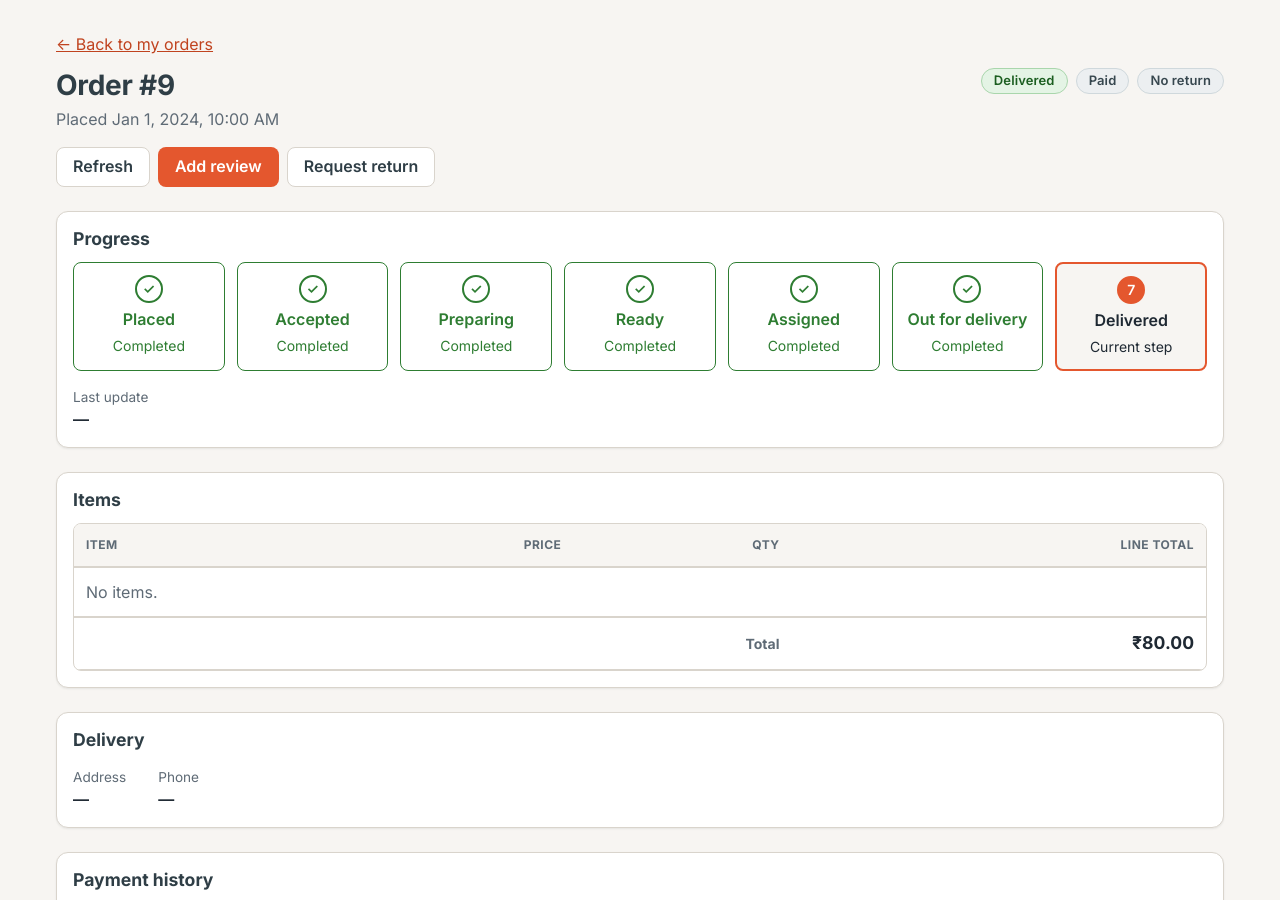
Test: OrderDetail › validates the return reason before submitting
Click the button "Request return".
click(361, 167)  # box [287, 147, 435, 187]
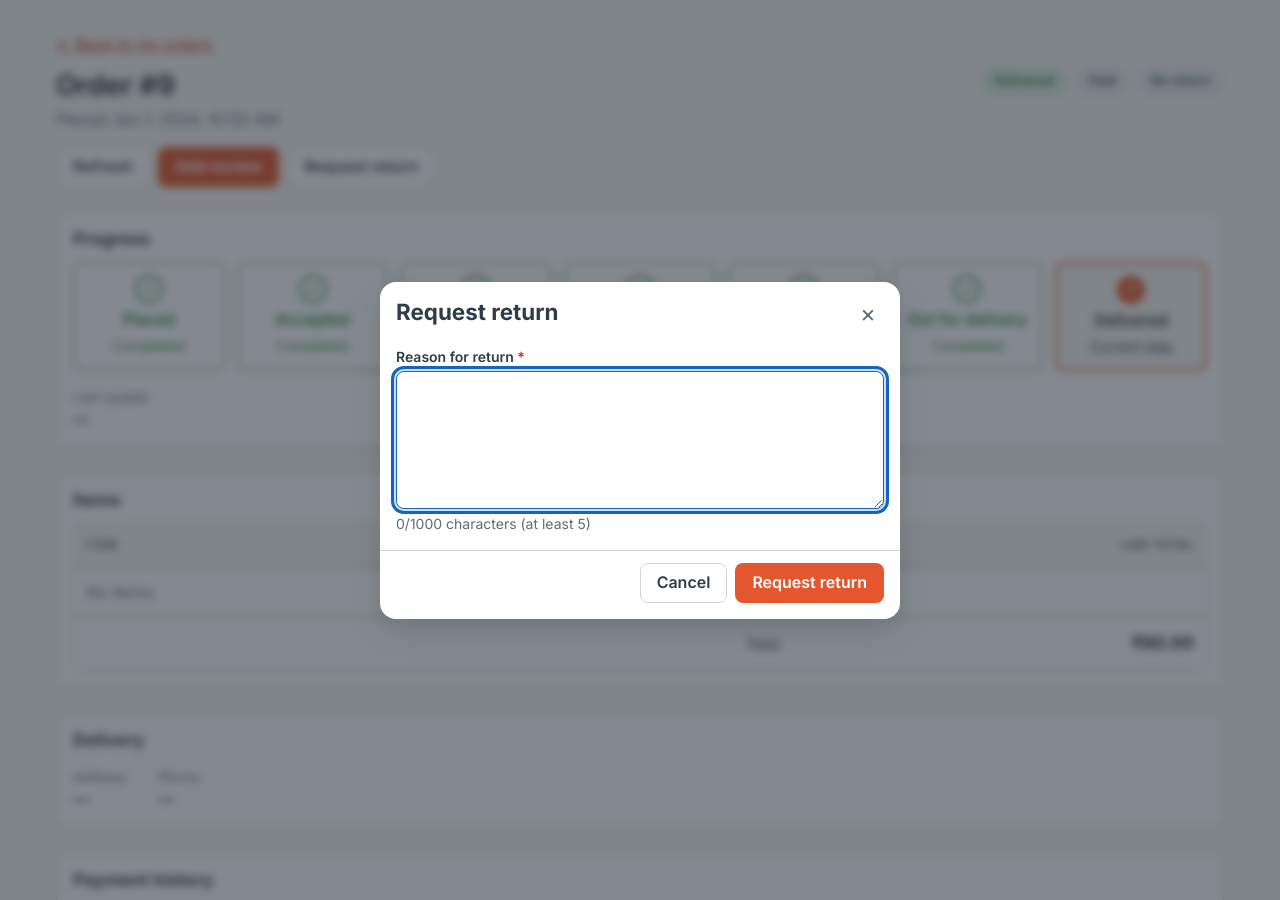
Click the button "Request return".
click(810, 582)  # box [735, 562, 884, 602]
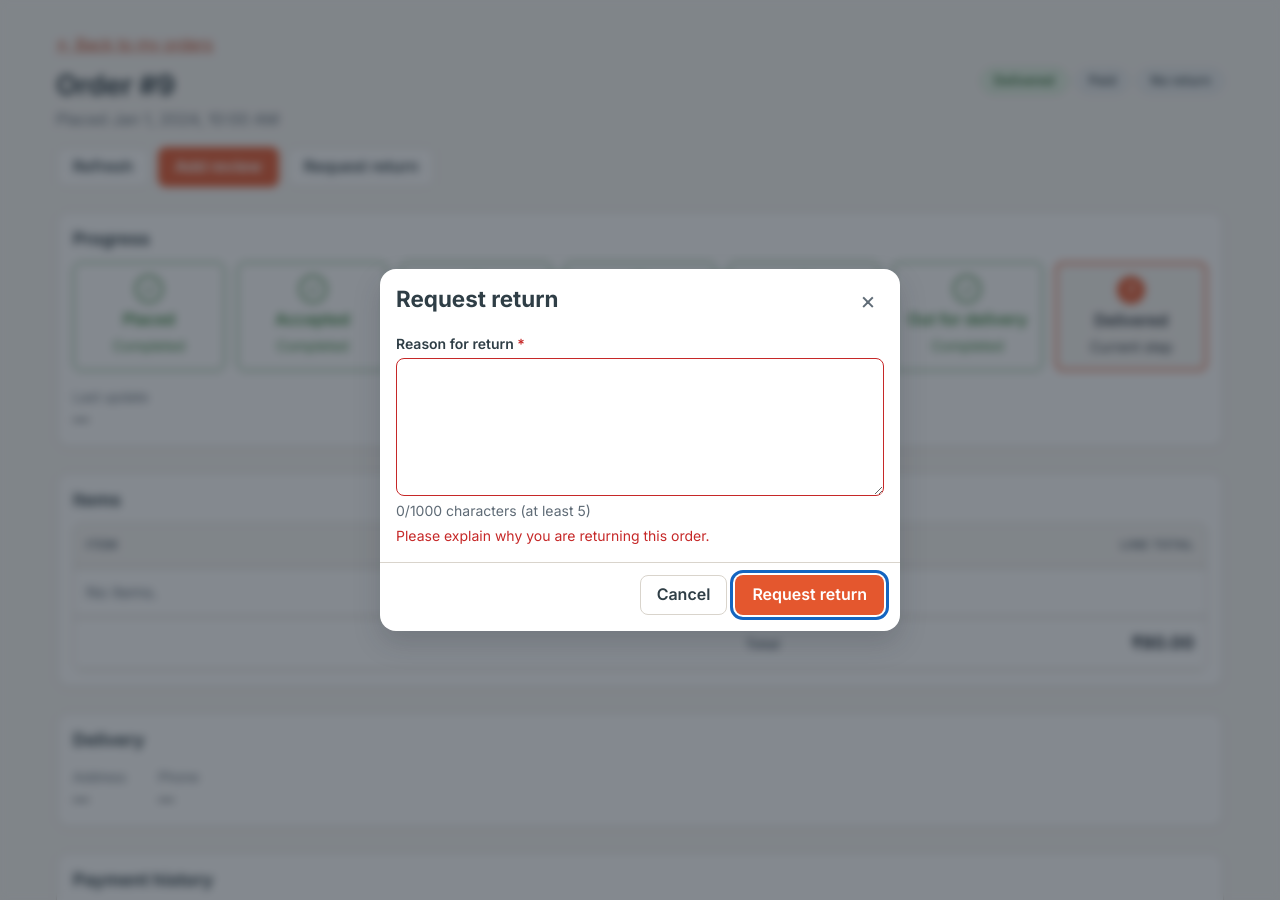
Expected: the text "Please explain why you are returning this order." is shown, [396, 527, 710, 544]
Type "abc" into the text box labelled "Reason for return *".
click(640, 427); type("abc")  # box [396, 358, 884, 496]
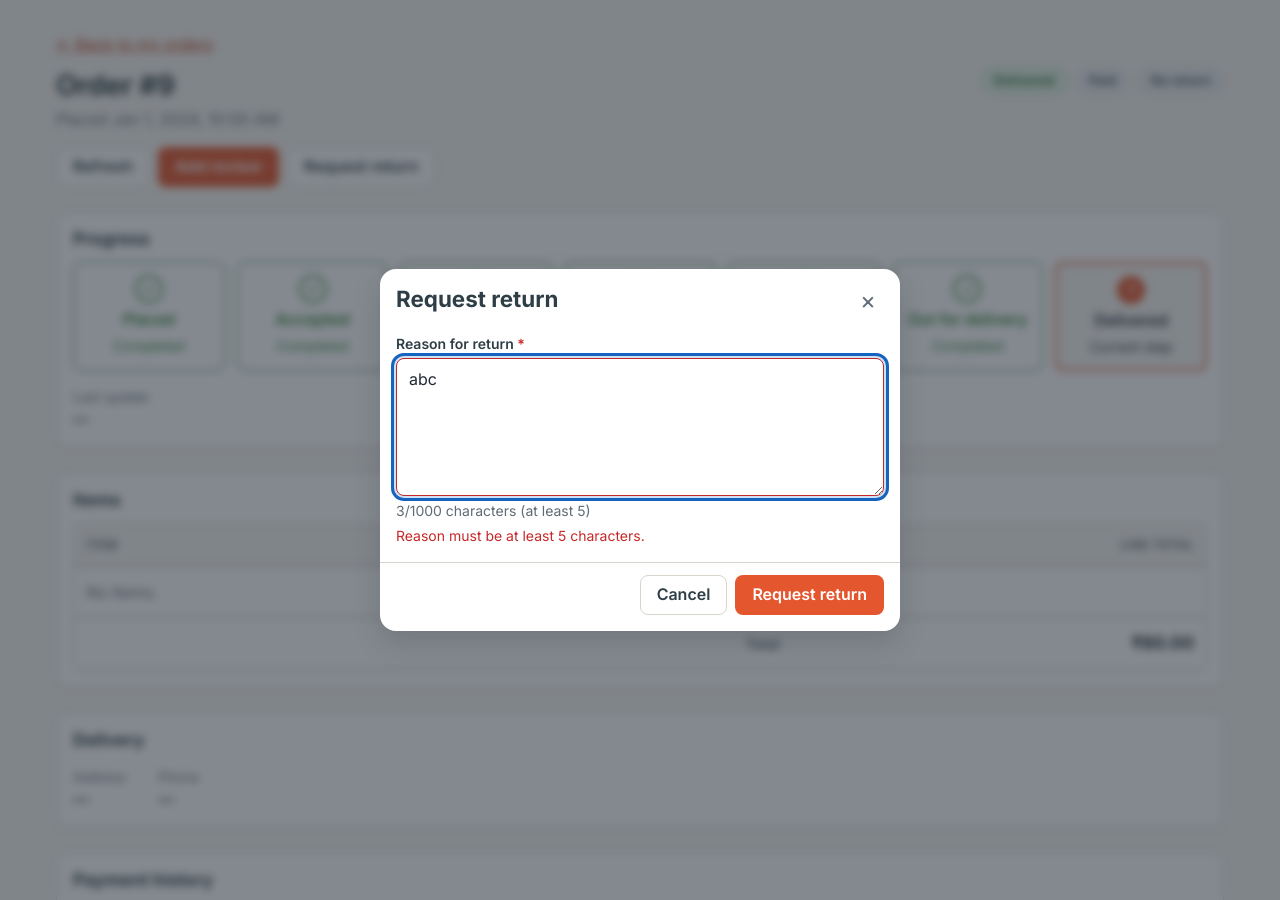
Expected: the text "Reason must be at least 5 characters." is shown, [396, 527, 645, 544]
